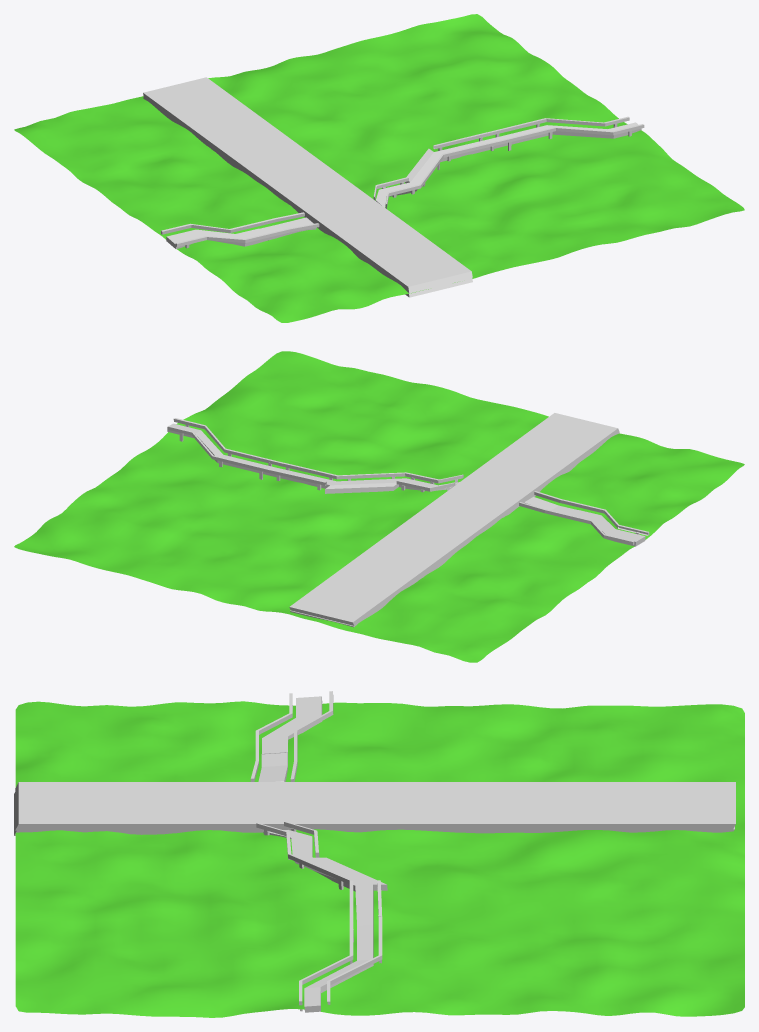
File: water.dae
3 renders of one model, top to bottom at view 1: azimuth 30°, elevation 25°; view 2: azimuth 150°, elevation 25°; view 3: azimuth 270°, elevation 25°, orthographic. The views are drawn at different scales.
Parts seen in each view (by area): view 1: Plane, Plane_003, Cube_003, Cube_025, Cube_001, Cube, Cube_002, Cube_003_001, Plane_002; view 2: Plane, Plane_003, Cube_003, Cube_025, Cube, Cube_001, Cube_003_001, Cube_002; view 3: Plane, Plane_003, Cube_025, Cube_001 (×2), Cube_003, Plane_002, Cube, Cube_002.
Boxes of the visible parts, <box> form: Plane: <box>14,14,744,322</box>; Plane_003: <box>143,77,472,292</box>; Cube_003: <box>385,116,644,207</box>; Cube_025: <box>376,122,641,207</box>; Cube_001: <box>166,228,268,248</box>; Cube: <box>376,145,499,207</box>; Cube_002: <box>161,212,304,234</box>; Cube_003_001: <box>175,223,319,246</box>; Plane_002: <box>143,97,472,297</box>; Plane: <box>14,351,744,662</box>; Plane_003: <box>289,413,619,626</box>; Cube_003: <box>167,418,463,485</box>; Cube_025: <box>167,423,395,492</box>; Cube: <box>270,467,459,493</box>; Cube_001: <box>570,510,645,546</box>; Cube_003_001: <box>534,491,649,535</box>; Cube_002: <box>519,502,634,544</box>; Plane: <box>15,701,744,1017</box>; Plane_003: <box>15,782,735,830</box>; Cube_025: <box>263,831,386,1012</box>; Cube_001 (×2): <box>258,696,322,781</box>; Cube_003: <box>256,823,382,1005</box>; Plane_002: <box>14,792,734,835</box>; Cube: <box>269,830,387,895</box>; Cube_002: <box>290,691,333,781</box>.
Size of the model in its own units: 127 by 126 by 3.81.
